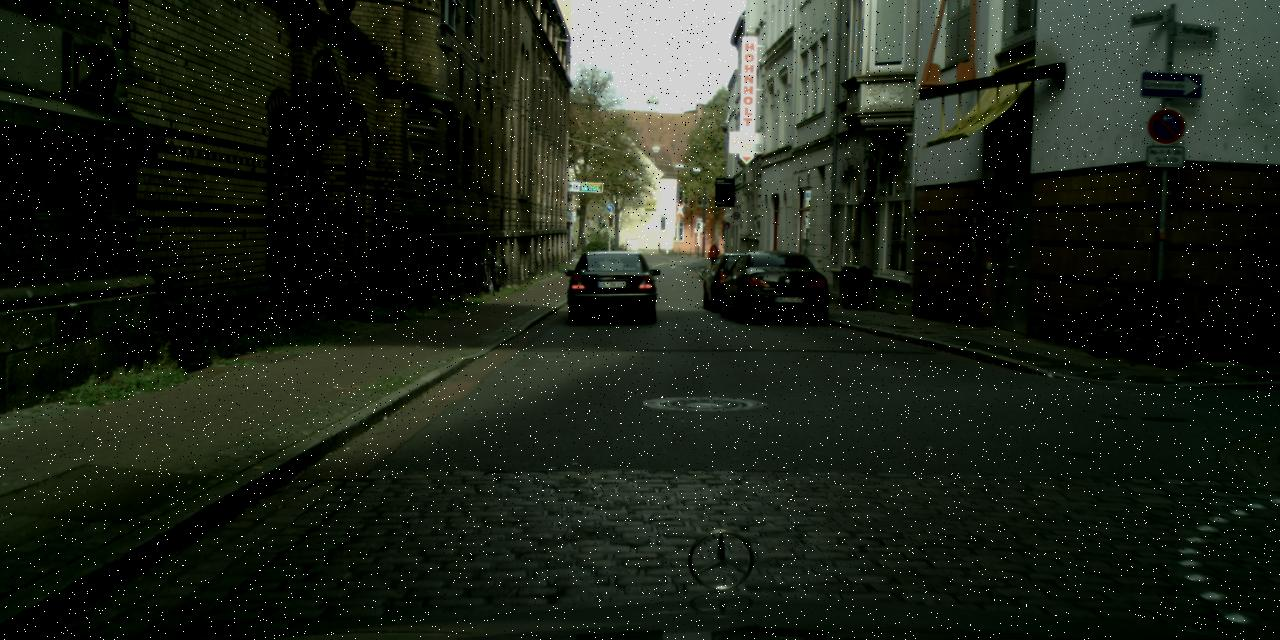ped: (707, 241, 719, 272)
